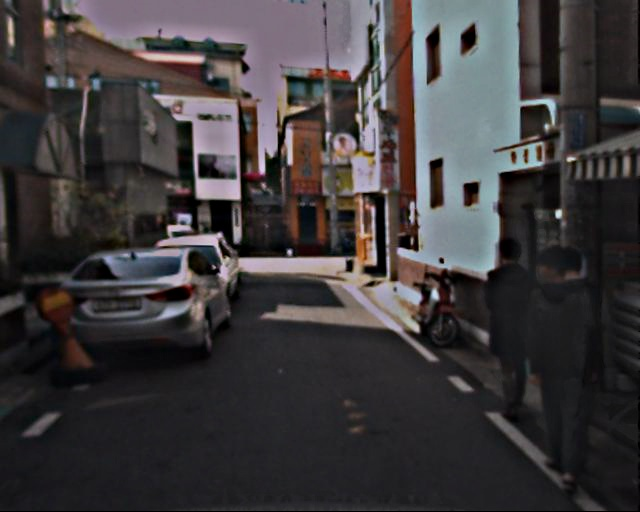person: (508, 250, 609, 484), (471, 239, 547, 422)
